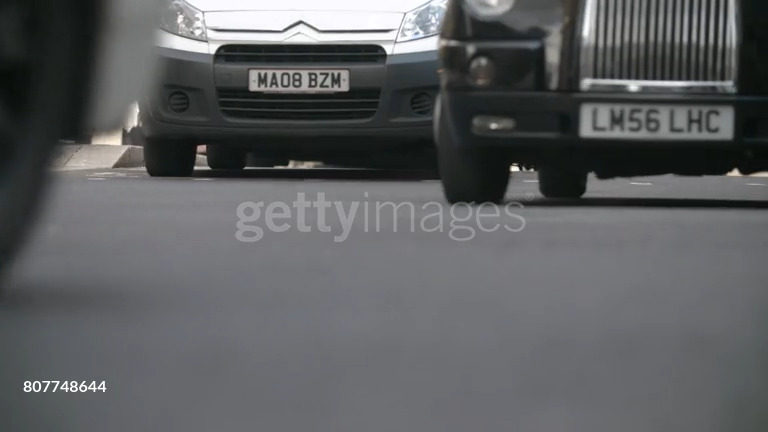car_number: (579, 103, 734, 140), (249, 69, 349, 92)
